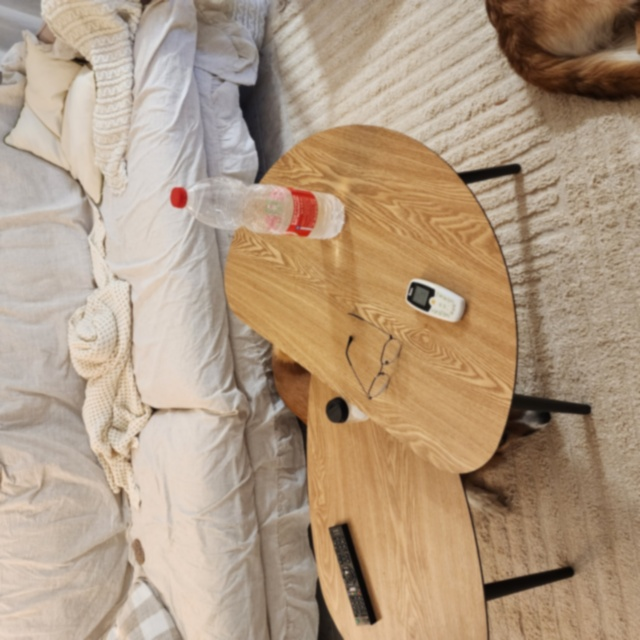glasses: (344, 309, 404, 403)
